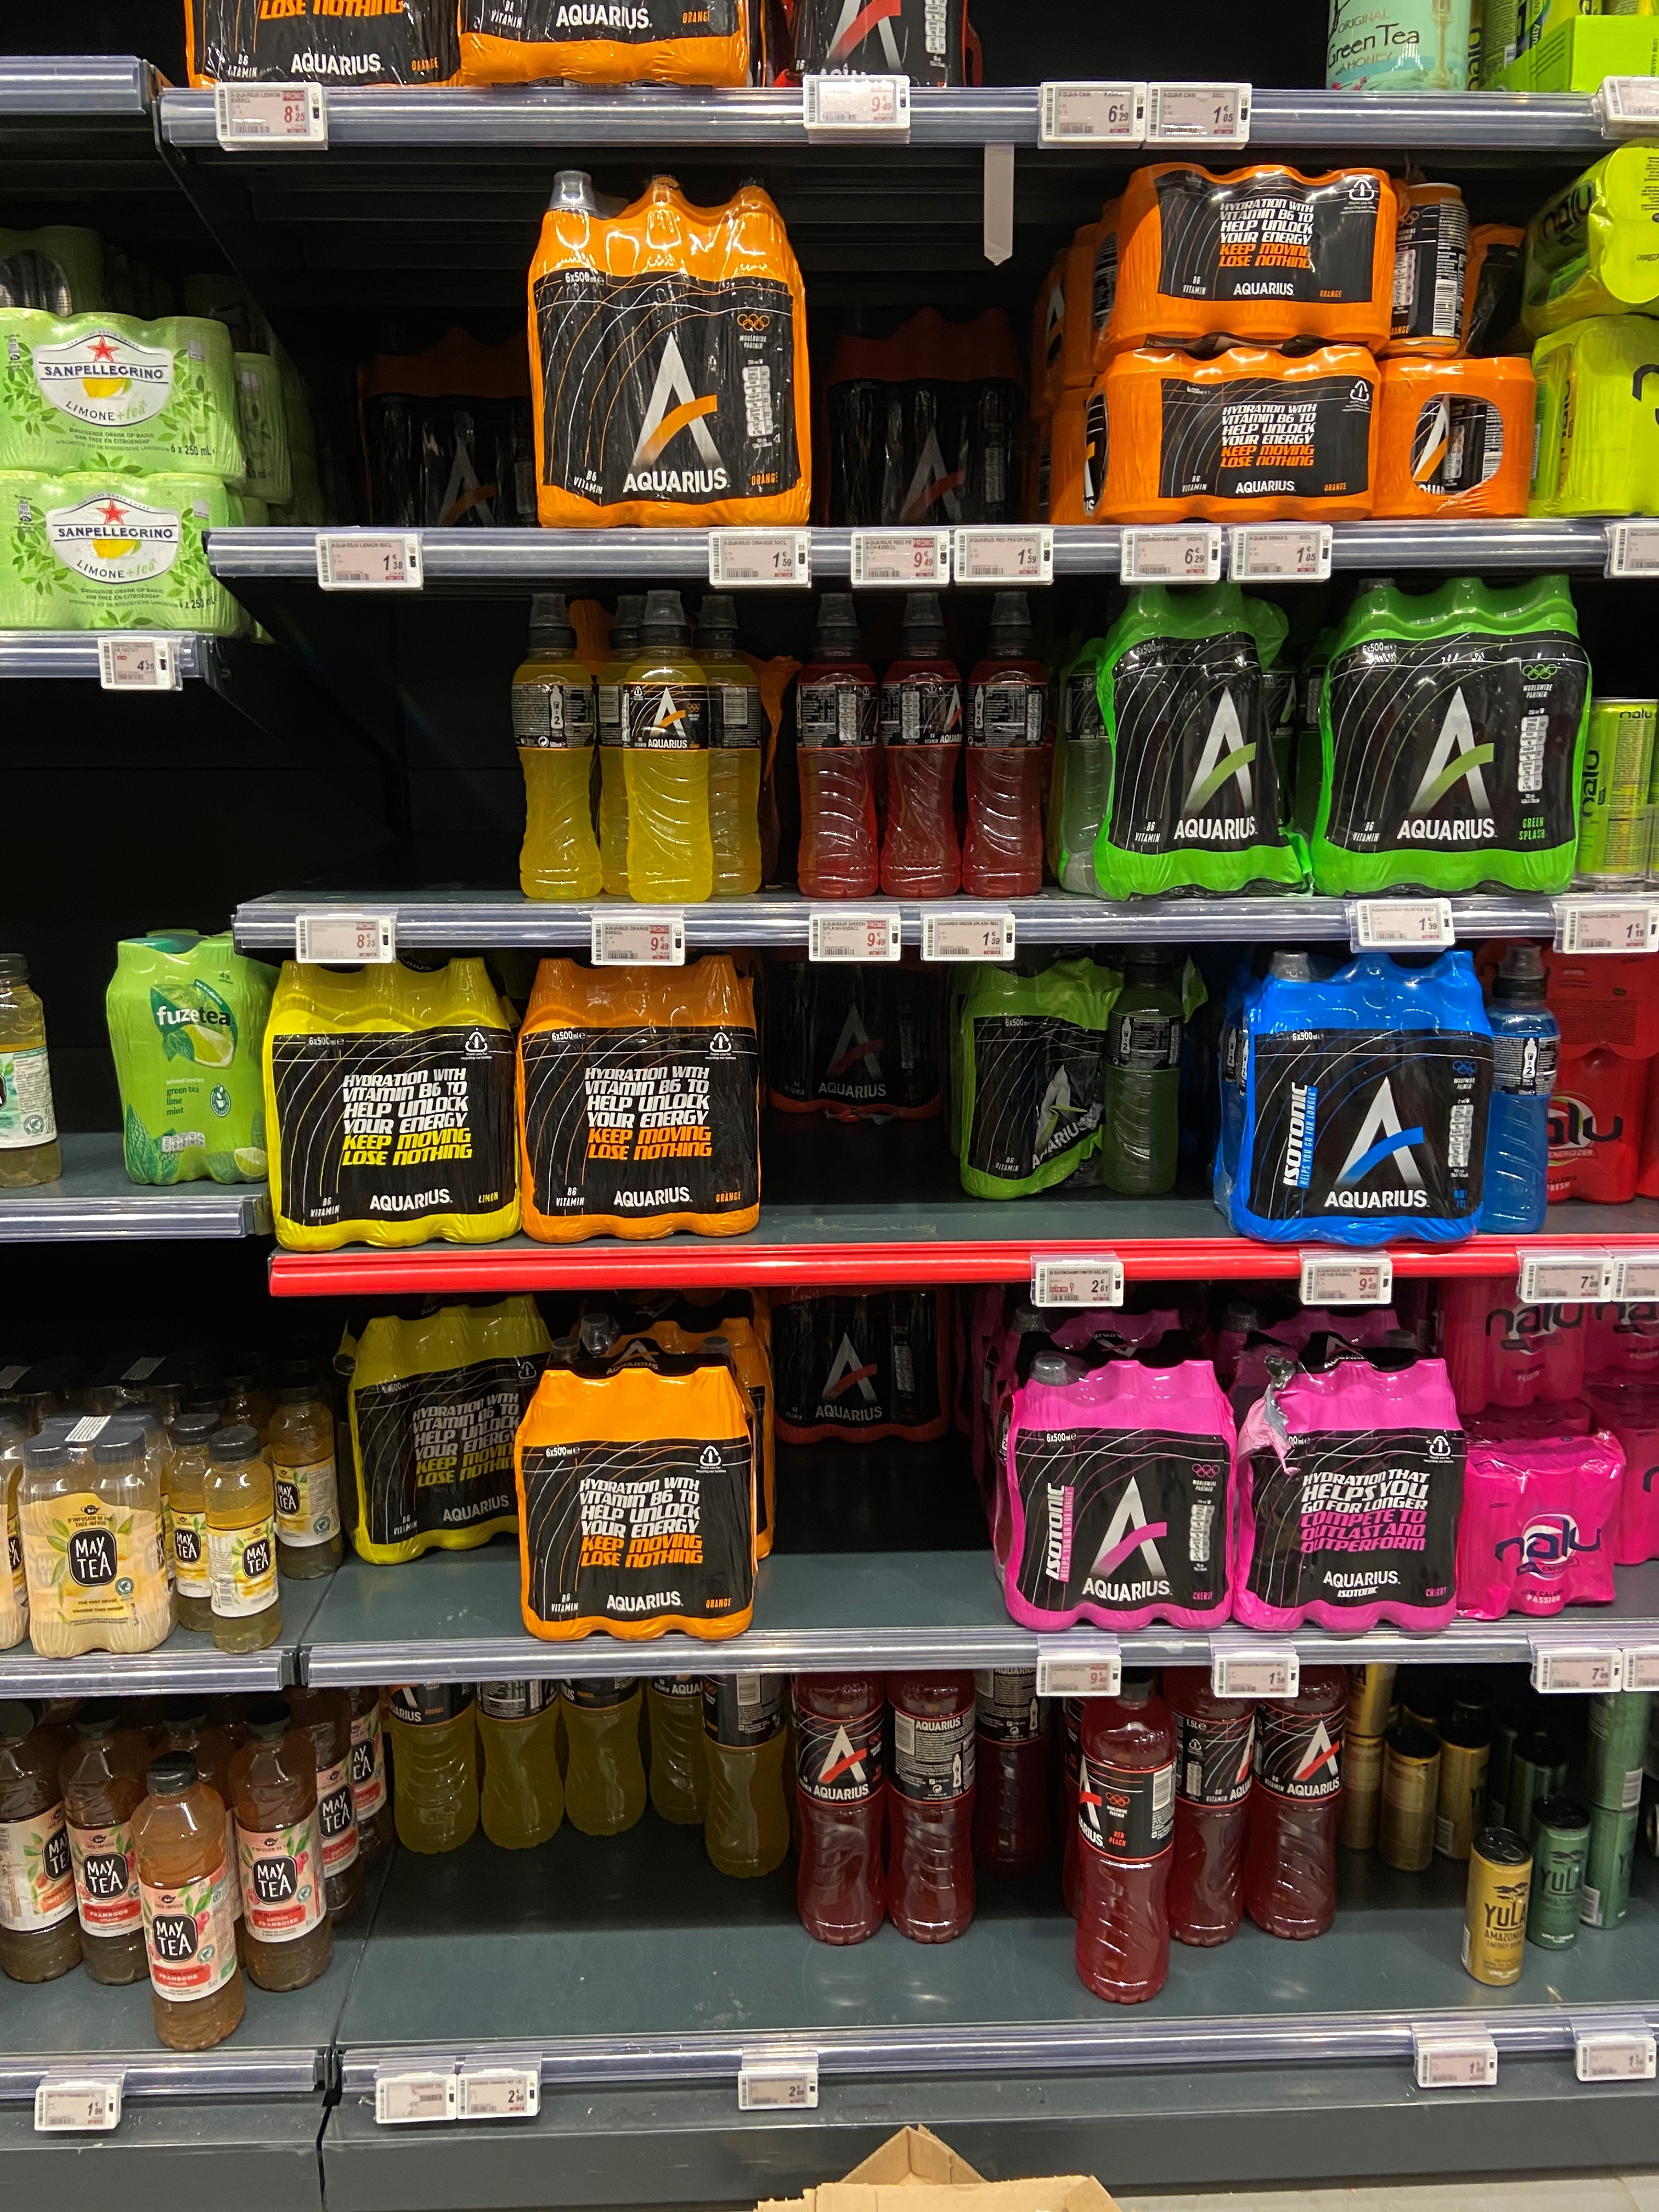AquariusBlueIceFles500ml: (1478, 941, 1558, 1233)
AquariusBlueIceFles6x500ml: (1220, 944, 1493, 1244)
AquariusCherryFles6x500ml: (995, 1331, 1239, 1632), (1232, 1331, 1466, 1632)
AquariusGreenSplashFles500ml: (1101, 934, 1185, 1195)
AquariusGreenSplashFles6x500ml: (1309, 571, 1591, 897), (1060, 575, 1317, 897), (955, 948, 1197, 1202)
AquariusLemonFles6x500ml: (267, 956, 516, 1251), (343, 1292, 558, 1568)
AquariusOrangeBlik330ml: (1389, 183, 1467, 354)
AquariusOrangeBlik6x330ml: (1096, 164, 1398, 352), (1093, 347, 1378, 524), (1377, 357, 1539, 519)
AquariusOrangeFles: (528, 167, 809, 533), (519, 1334, 758, 1642), (516, 956, 760, 1240), (812, 307, 1028, 526), (357, 326, 542, 538), (511, 589, 603, 900), (622, 589, 709, 904), (702, 1639, 789, 1879), (389, 1625, 479, 1853), (558, 1616, 648, 1838), (477, 1620, 563, 1851), (650, 1620, 716, 1831)
AquariusRedPeachFles500ml: (1075, 1667, 1175, 2003), (960, 589, 1053, 897), (1255, 1641, 1349, 1939), (793, 1656, 887, 1947), (793, 590, 877, 899), (890, 1656, 976, 1947), (878, 589, 958, 897), (1168, 1646, 1249, 1947), (972, 1623, 1054, 1881)
AquariusRedPeachFles6x500ml: (767, 939, 945, 1125), (777, 1263, 951, 1444)
FuzeTeaLimeMint4x400ml: (106, 928, 277, 1186)
MayTeaCitron33cl: (204, 1426, 282, 1653), (268, 1374, 343, 1580), (169, 1413, 235, 1632)
MayTeaCitron4x33cl: (14, 1406, 174, 1663)
MayTeaFramboos1L: (131, 1750, 247, 2052), (230, 1702, 335, 1991), (61, 1702, 157, 1987)
MayTeaMenthe33cl: (0, 951, 64, 1188)
MayTeaPecheBlanche1L: (0, 1698, 84, 1986)
NaluOriginal250ml: (1575, 695, 1659, 883)
NaluOriginal6x350ml: (1530, 317, 1659, 521)
NaluPassion6x350ml: (1452, 1421, 1619, 1623), (1438, 1258, 1586, 1414)
SanPellegrino6x25cl: (0, 308, 246, 479), (0, 469, 242, 641)
YulaAppleGinseng: (1530, 1803, 1591, 1951), (1589, 1674, 1647, 1808), (1582, 1801, 1638, 1932)
YulaLemonGinger: (1462, 1829, 1534, 1987), (1385, 1730, 1439, 1871), (1439, 1723, 1493, 1862), (1340, 1731, 1385, 1851), (1345, 1639, 1398, 1735)
